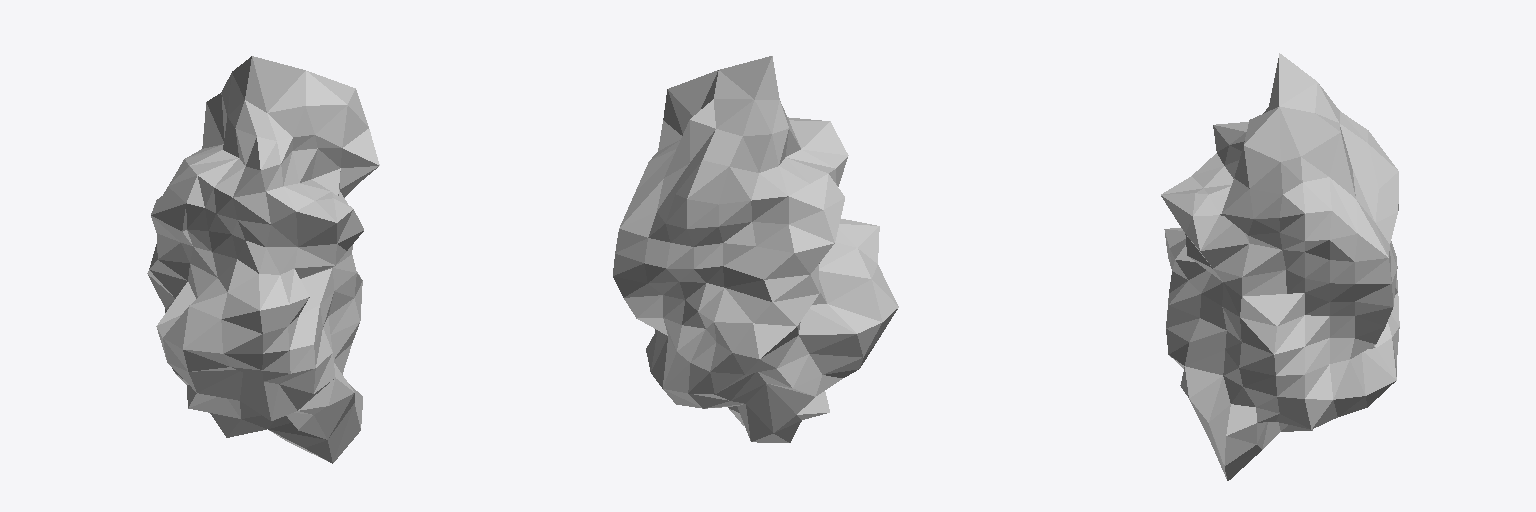
Rendered from composition_block.04.obj.
3 renders of one model, left to right at view 1: azimuth 30°, elevation 25°; view 2: azimuth 150°, elevation 25°; view 3: azimuth 270°, elevation 25°, orthographic.
Visible parts, largest first — view 1: compositing_block..04_Cube.004; view 2: compositing_block..04_Cube.004; view 3: compositing_block..04_Cube.004.
Boxes of the visible parts, x1,y1,x2,y2 form: compositing_block..04_Cube.004: [147, 56, 379, 463]; compositing_block..04_Cube.004: [613, 56, 898, 442]; compositing_block..04_Cube.004: [1161, 53, 1399, 480].
Bounding box in the file's own units: 1.6 × 2.95 × 1.59.